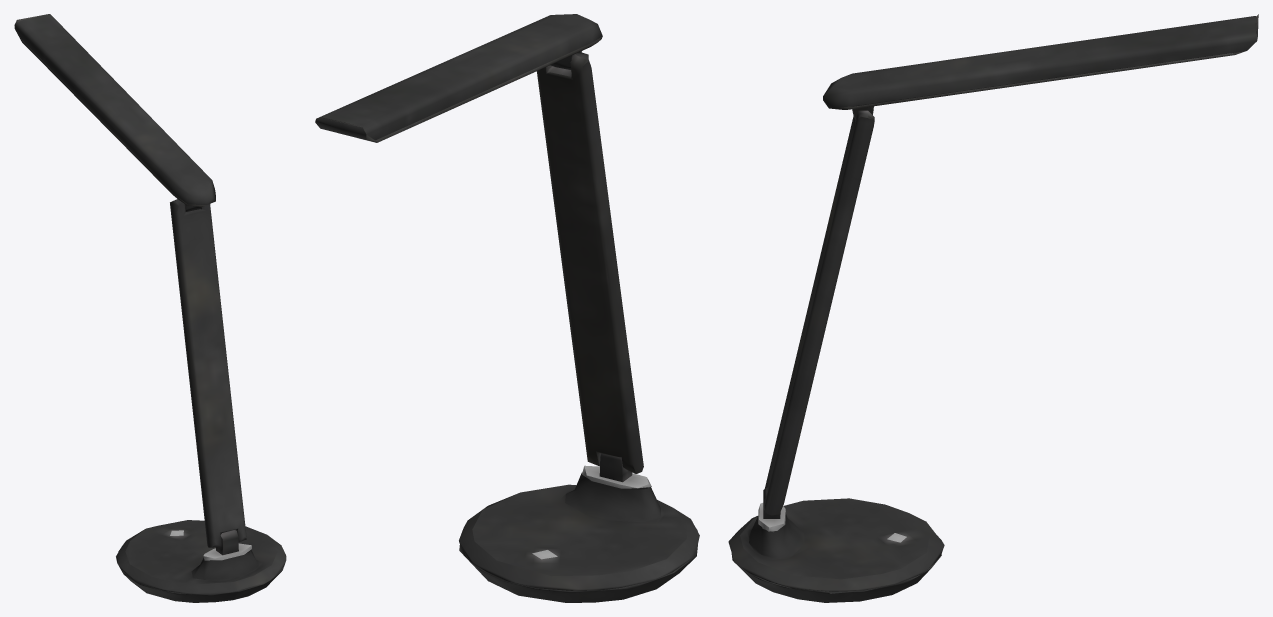
File: SM_Office_Supplies12b.fbx
The picture shows the model from 3 angles, left to right: view 1: azimuth 30°, elevation 25°; view 2: azimuth 150°, elevation 25°; view 3: azimuth 270°, elevation 25°; orthographic projection. The views are drawn at different scales.
Parts seen in each view (by area): view 1: SM_Office_Supplies12b_LOD0; view 2: SM_Office_Supplies12b_LOD0; view 3: SM_Office_Supplies12b_LOD0.
Boxes of the visible parts, x1,y1,x2,y2 form: SM_Office_Supplies12b_LOD0: (14, 14, 286, 602); SM_Office_Supplies12b_LOD0: (315, 14, 699, 602); SM_Office_Supplies12b_LOD0: (728, 14, 1258, 602).
Size of the model in its own units: 14.86 by 37.13 by 41.77.
